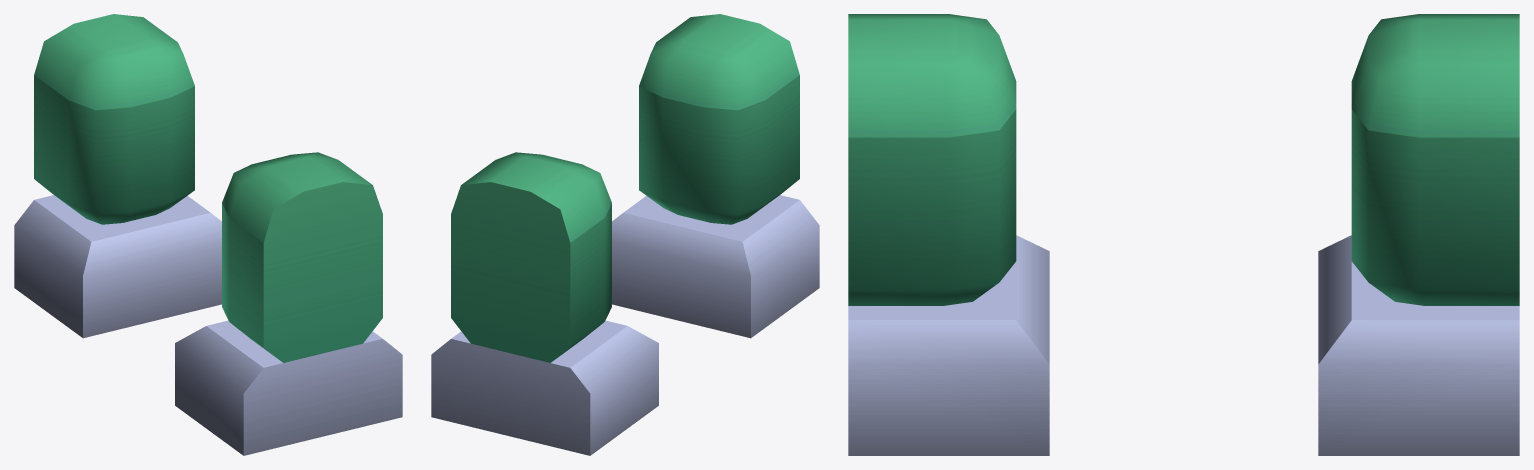
Rendered from hedge-large-gate.fbx.
3 views of the same model, side by side, from view 1: azimuth 30°, elevation 25°; view 2: azimuth 150°, elevation 25°; view 3: azimuth 270°, elevation 25° (orthographic). The views are drawn at different scales.
Parts seen in each view (by area): view 1: hedge-large-gate; view 2: hedge-large-gate; view 3: hedge-large-gate.
Part boxes in pixels (<box>): hedge-large-gate: <box>14,14,402,455</box>; hedge-large-gate: <box>431,14,819,455</box>; hedge-large-gate: <box>848,14,1519,455</box>.
Size of the model in its own units: 40 by 60 by 100.
1 material, 1 textured.
